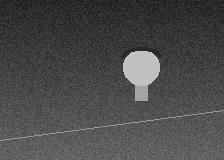no_helmet: (123, 47, 159, 90)
